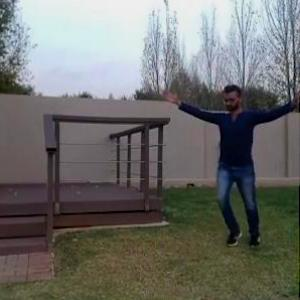takeoff: (155, 84, 298, 244)
